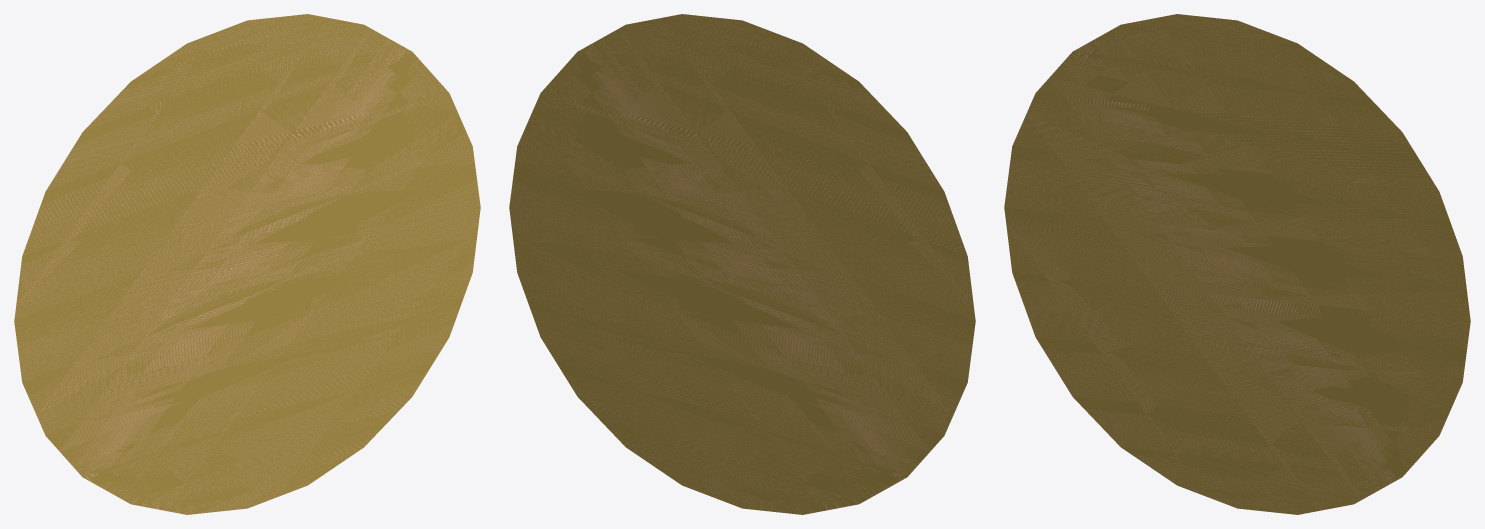
File: original-54.obj
The picture shows the model from 3 angles, left to right: view 1: azimuth 30°, elevation 25°; view 2: azimuth 150°, elevation 25°; view 3: azimuth 330°, elevation 25°; orthographic projection.
Visible parts, largest first — view 1: #ID375; view 2: #ID375; view 3: #ID375.
Part boxes in pixels (<box>): #ID375: <box>14,14,480,514</box>; #ID375: <box>509,14,975,514</box>; #ID375: <box>1004,14,1470,514</box>.
Bounding box in the file's own units: 0.026 × 0.026 × 0.
